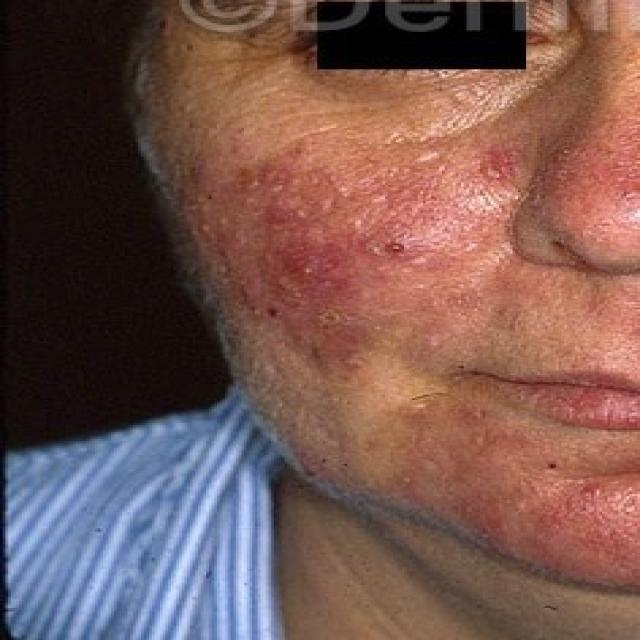Rosacea: (238, 156, 451, 357)
